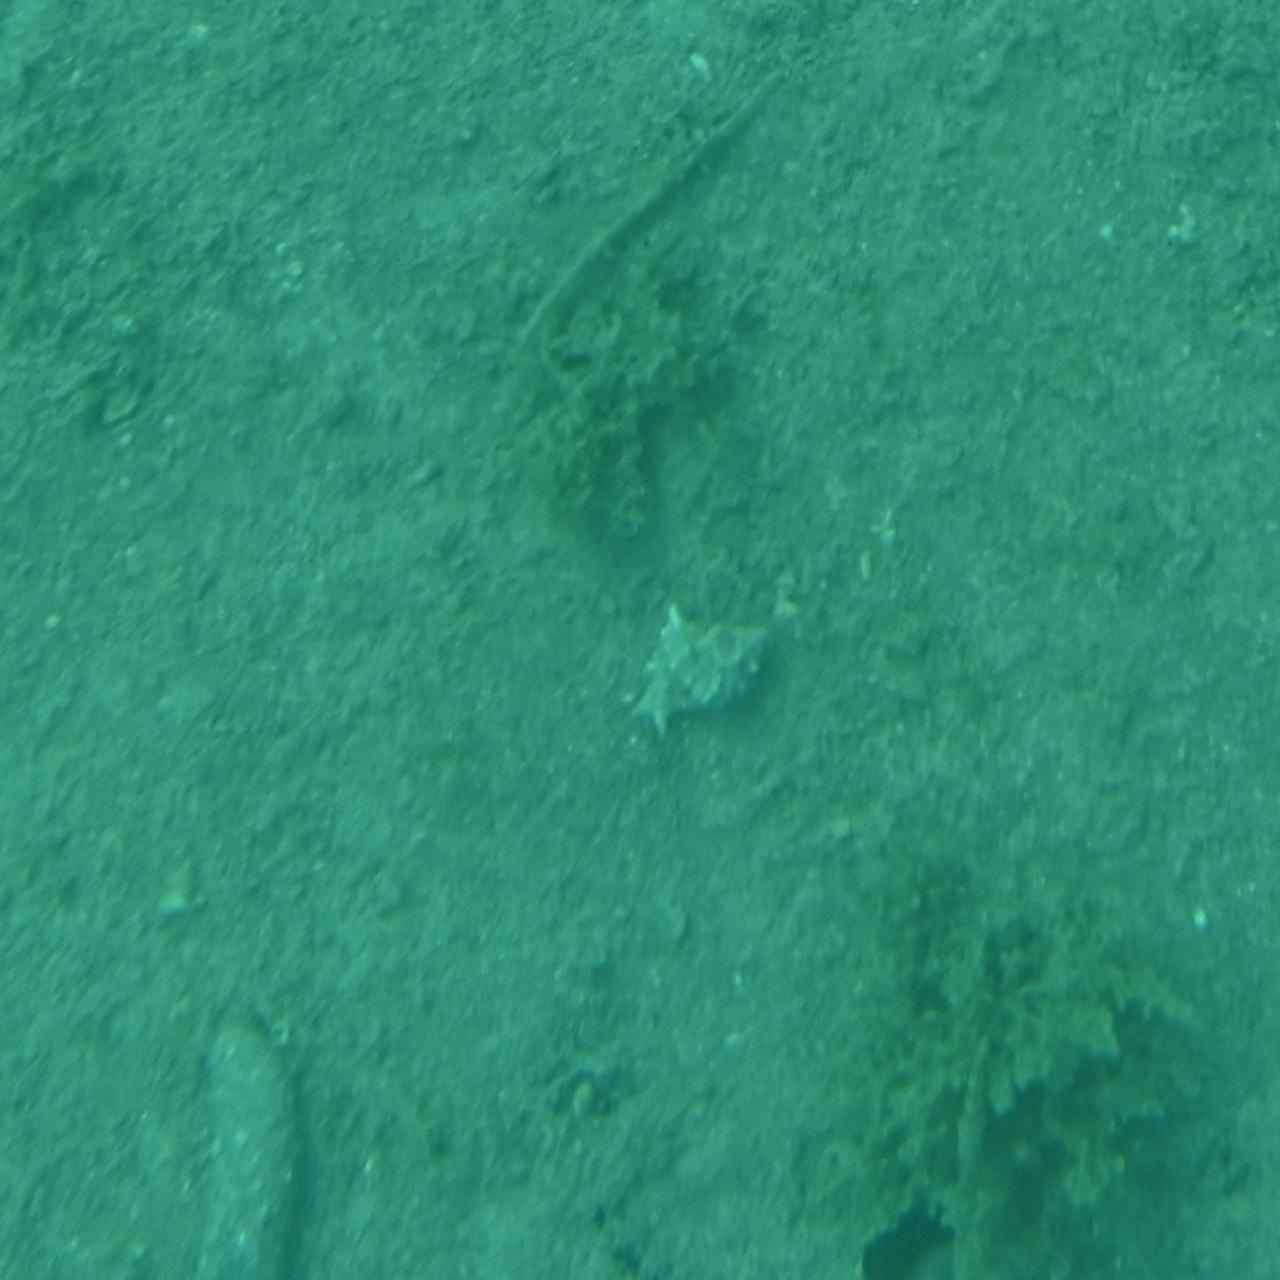Holothuria tubulosa: (158, 998, 300, 1279)
Phaeophyceae -cfr Cystoseira-: (831, 835, 1271, 1278)
